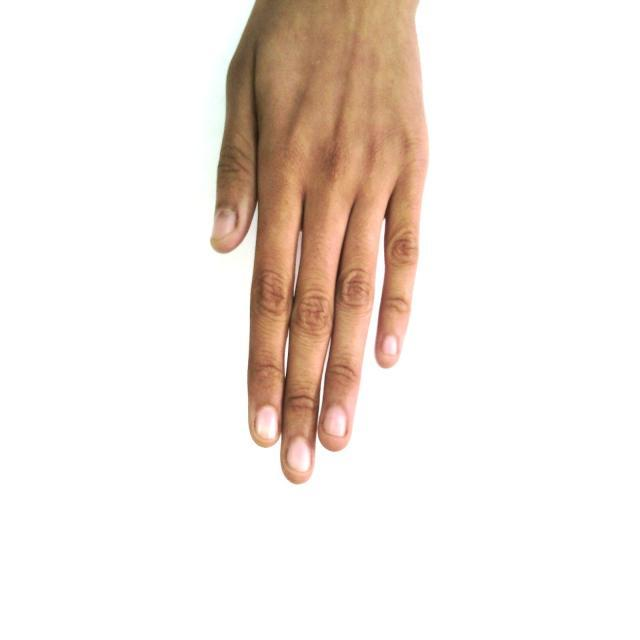Fingernail: (212, 209, 236, 241), (287, 439, 310, 471), (257, 406, 277, 440), (325, 407, 346, 435), (383, 337, 397, 358)
